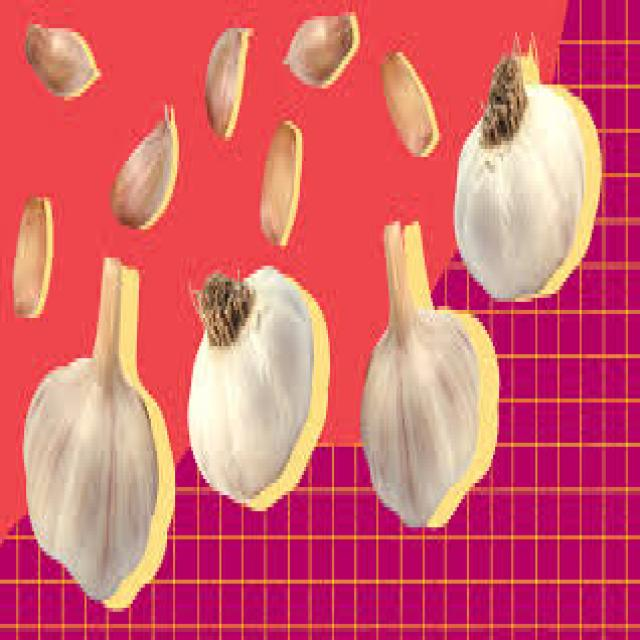Garlic: (20, 256, 182, 624), (353, 197, 504, 554), (454, 44, 609, 312), (180, 244, 328, 516), (102, 103, 190, 248), (15, 8, 104, 114), (253, 105, 311, 259), (379, 33, 446, 166), (10, 162, 59, 342), (201, 13, 260, 153), (283, 0, 365, 98)
